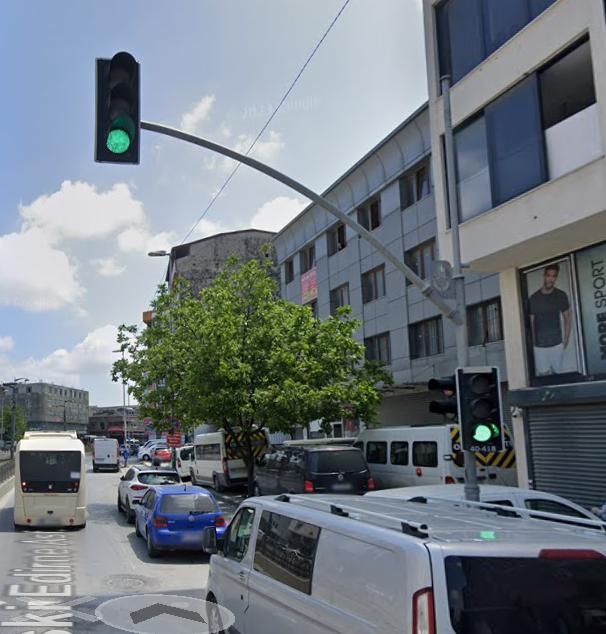greenlight: (96, 53, 141, 163), (457, 367, 503, 449)
